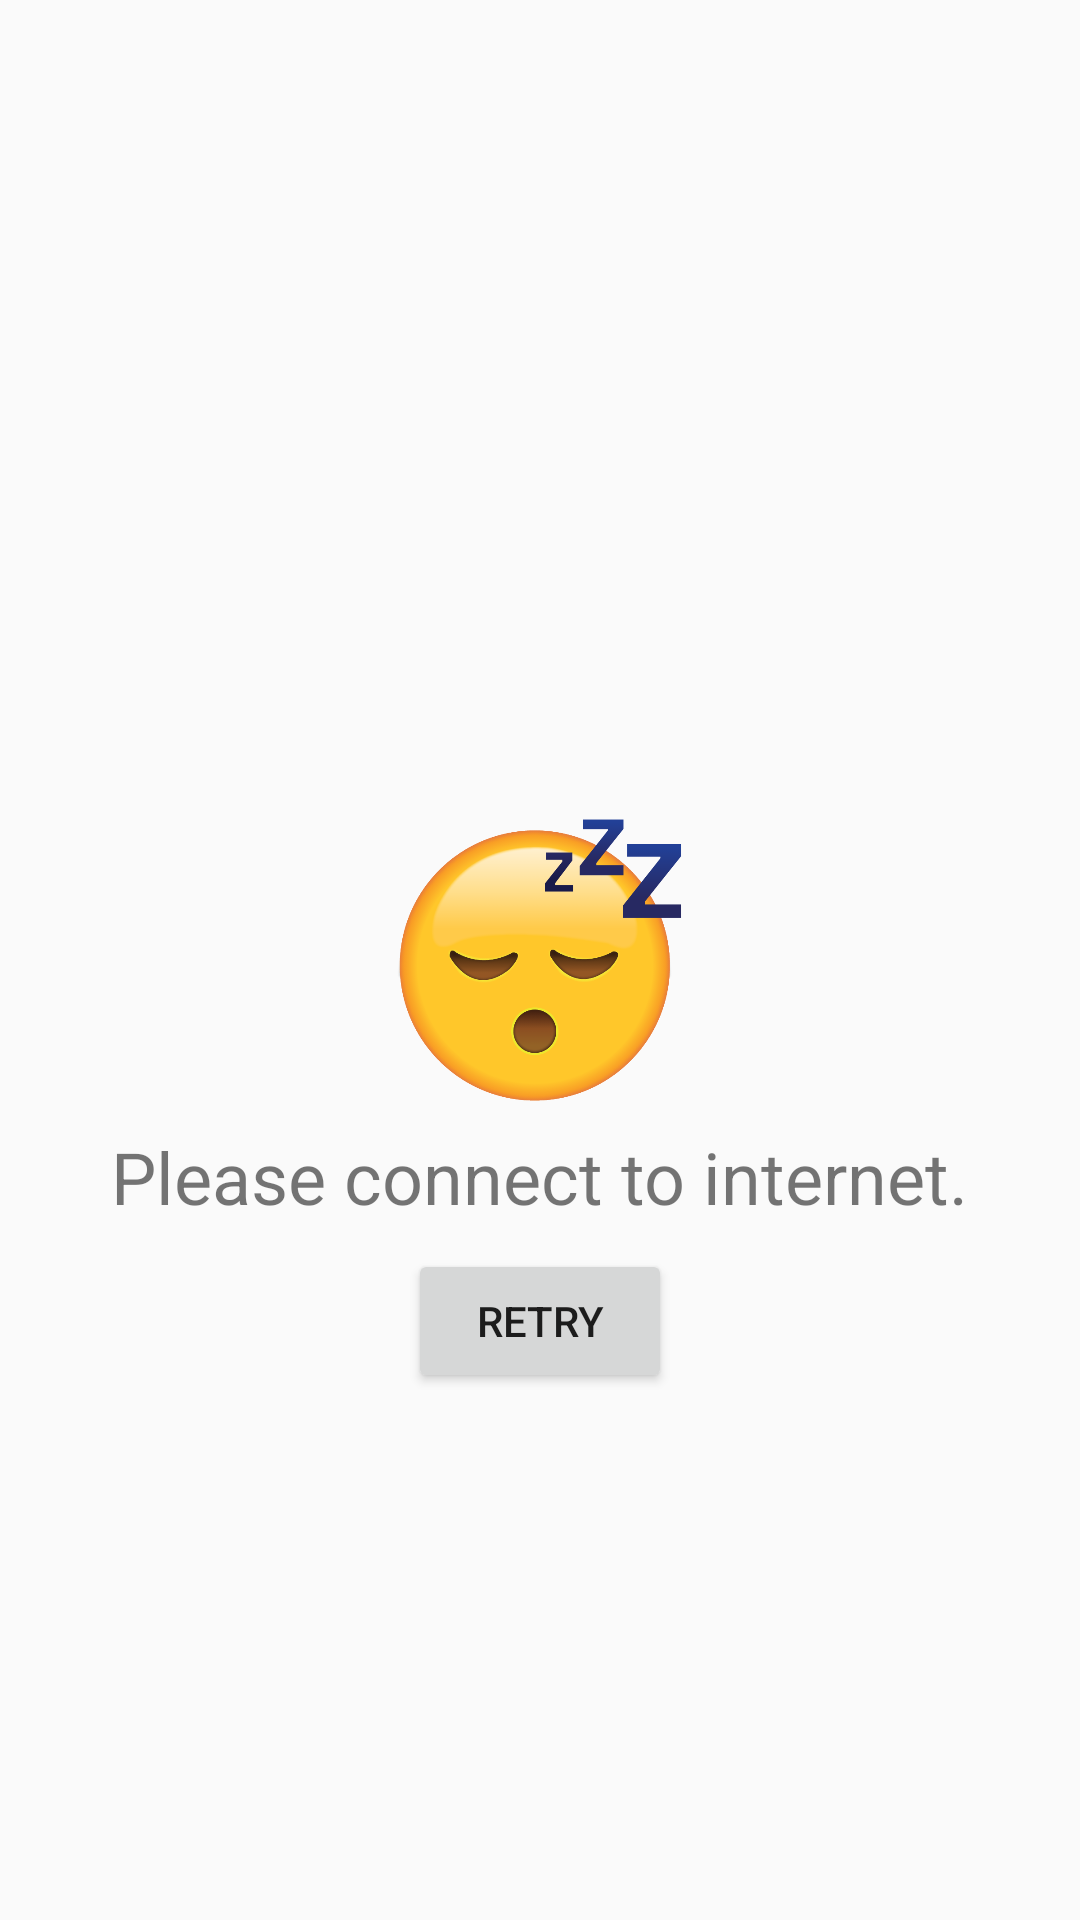

Where icons sit on this 1080x1920 app screen, as (x1=x1, y1=y1, x2=x2, y2=y2):
sleeping emoji: (x1=399, y1=819, x2=681, y2=1101)
